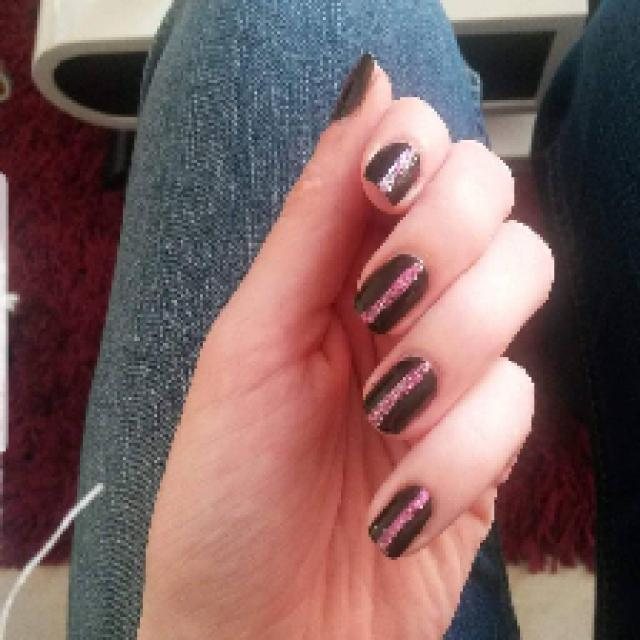Nail: (355, 254, 429, 334), (364, 356, 436, 434), (370, 486, 431, 557), (364, 141, 421, 206), (331, 52, 376, 121)
